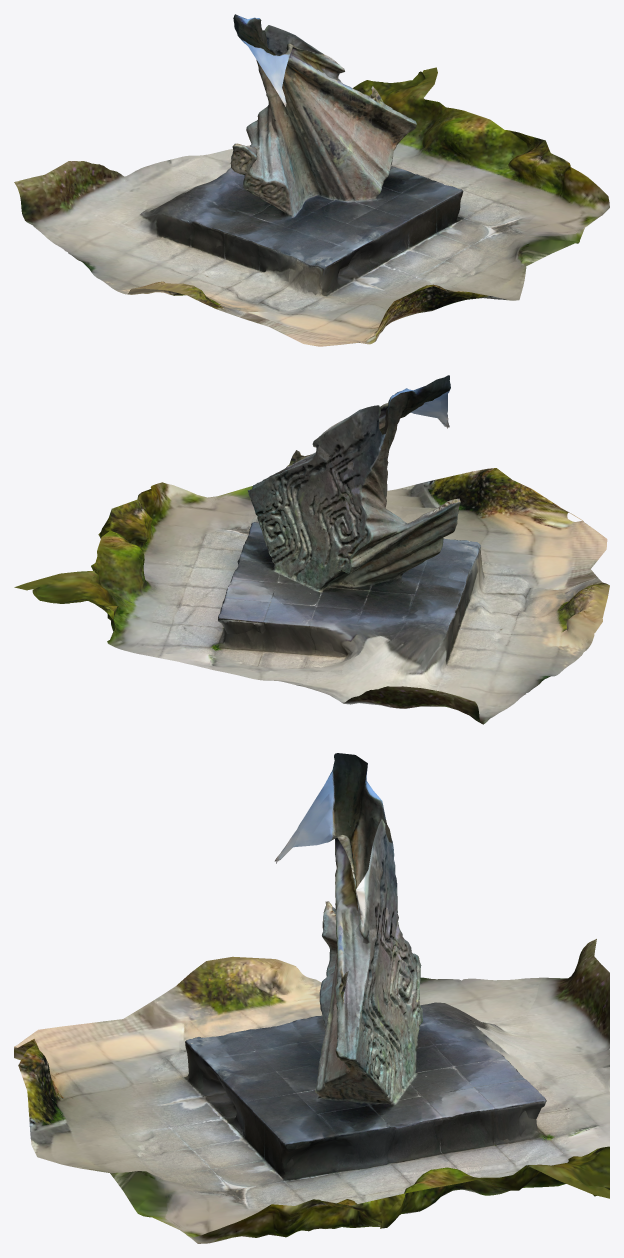
Rendered from Gauss.obj.
3 renders of one model, top to bottom at view 1: azimuth 30°, elevation 25°; view 2: azimuth 150°, elevation 25°; view 3: azimuth 270°, elevation 25°, orthographic. The views are drawn at different scales.
Visible parts, largest first — view 1: Object; view 2: Object; view 3: Object.
Boxes of the visible parts, x1,y1,x2,y2 form: Object: (14,14,609,346); Object: (14,375,609,724); Object: (14,753,609,1243).
Bounding box in the file's own units: 4.84 × 2.52 × 4.38.
Materials: 1 (1 with a texture image).
